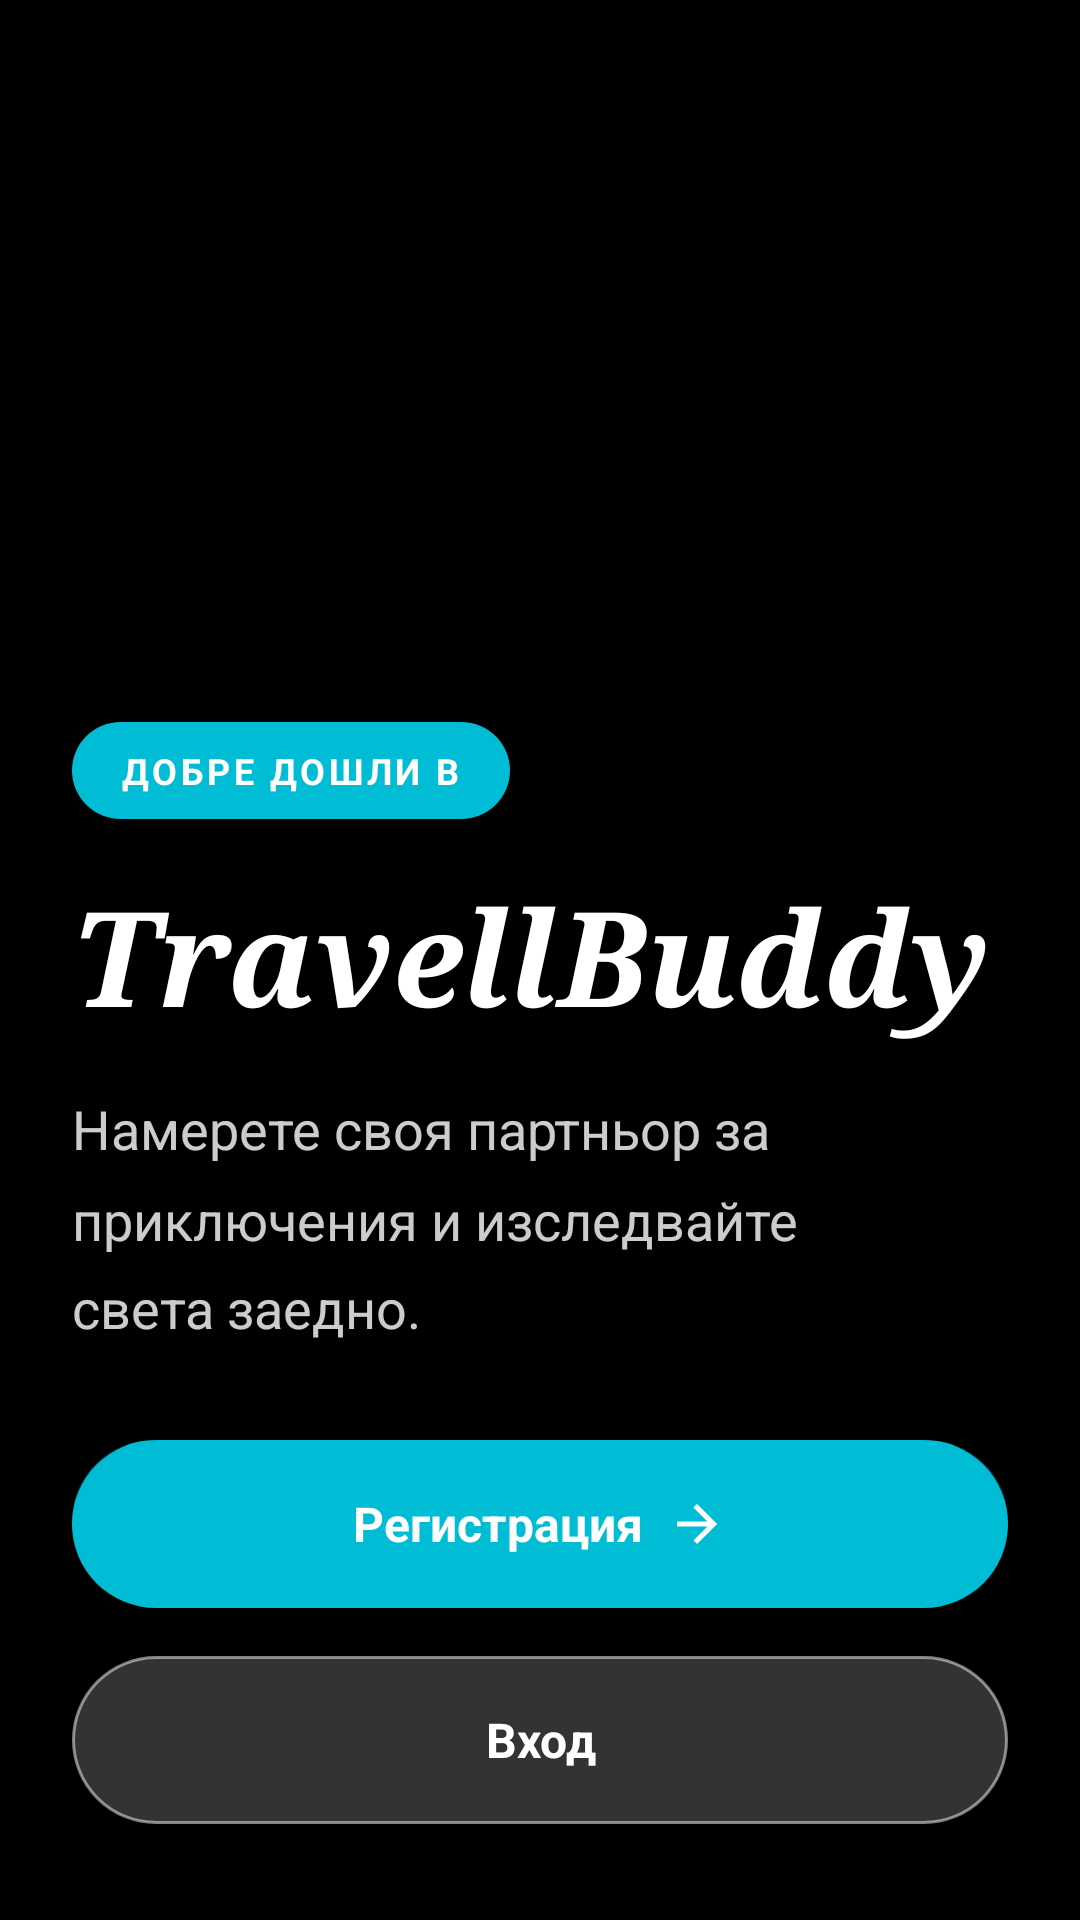

Locate icon controls on the screen. Image size 1080*1920, boxes as (x1, y1, x2, y2).
arrow forward: (677, 1504, 717, 1544)
